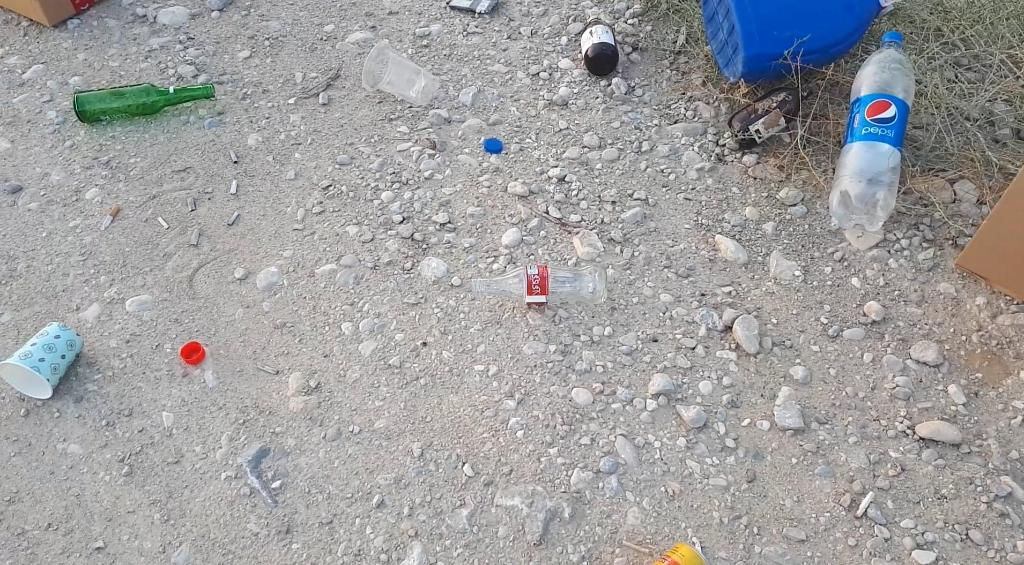garbage: (829, 31, 916, 232), (701, 1, 894, 85), (471, 264, 608, 306), (728, 82, 813, 149), (73, 84, 216, 123), (581, 16, 619, 76), (652, 542, 710, 565)
